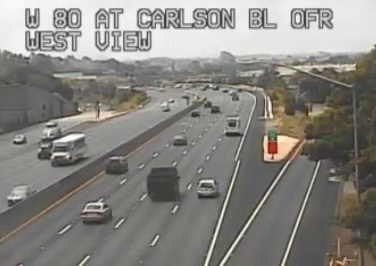bus: (224, 117, 240, 135)
car: (80, 202, 111, 222), (105, 156, 127, 174), (197, 179, 217, 197)
small-truck: (147, 168, 179, 200)
